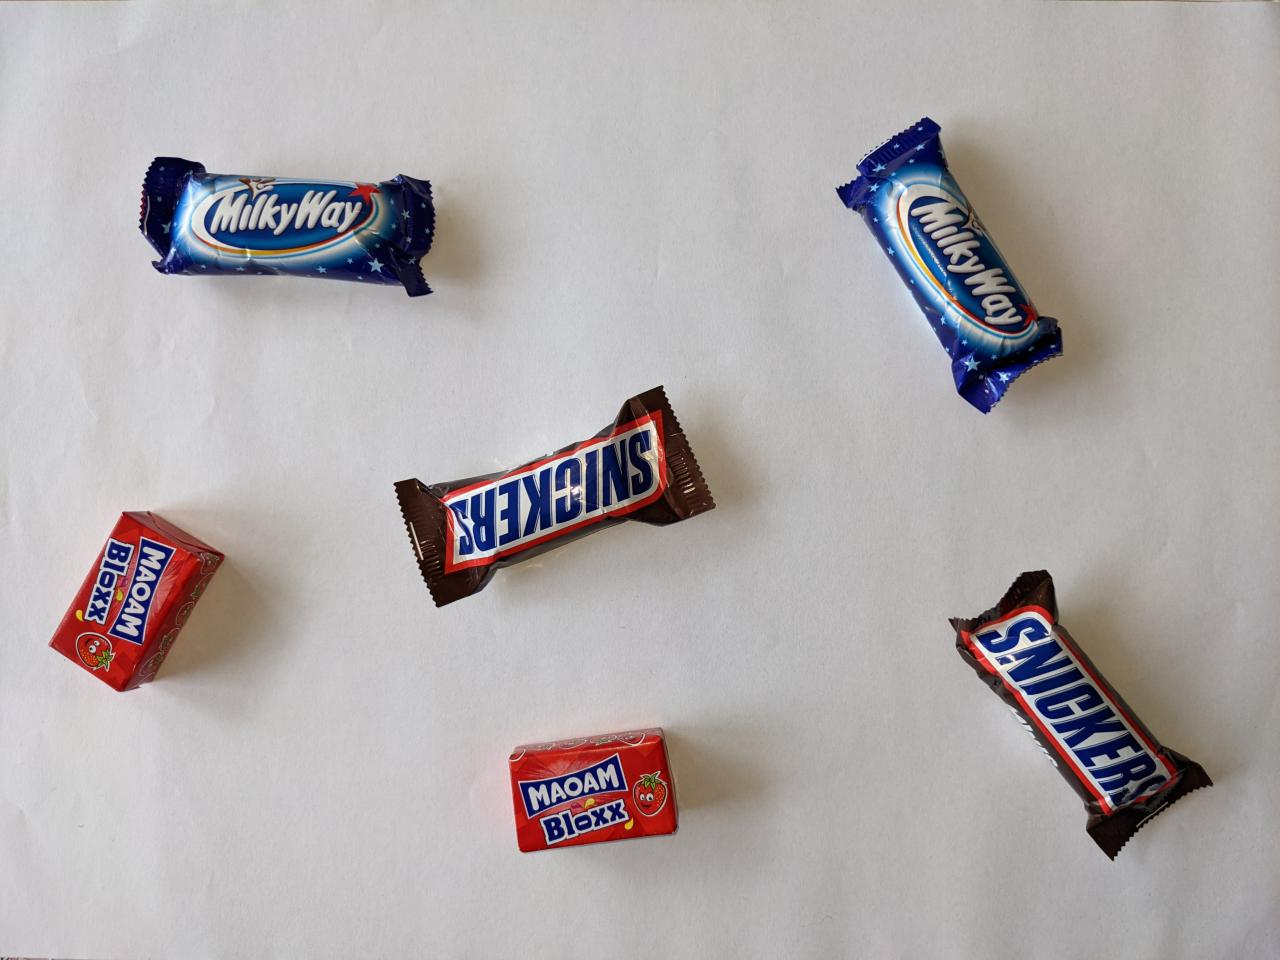MAOAM: (41, 502, 235, 700), (503, 719, 689, 858)
MilkyWay: (829, 112, 1072, 426), (132, 152, 446, 306)
Snickers: (940, 559, 1223, 869), (384, 379, 720, 620)
